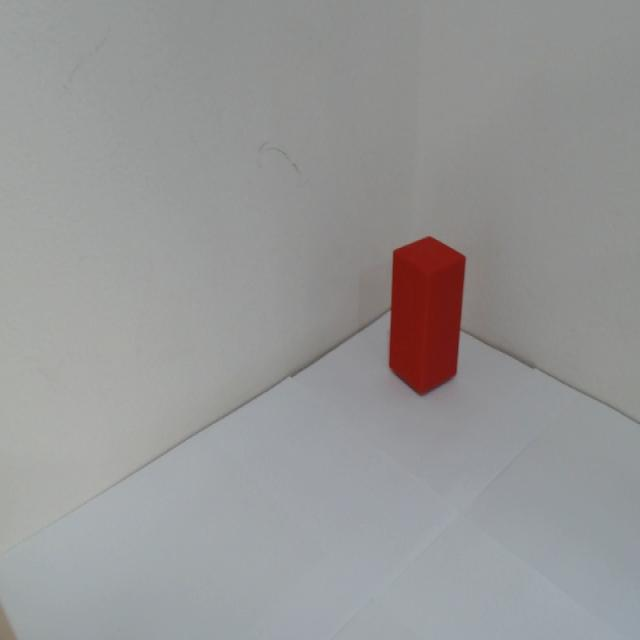cube: (380, 229, 471, 402)
